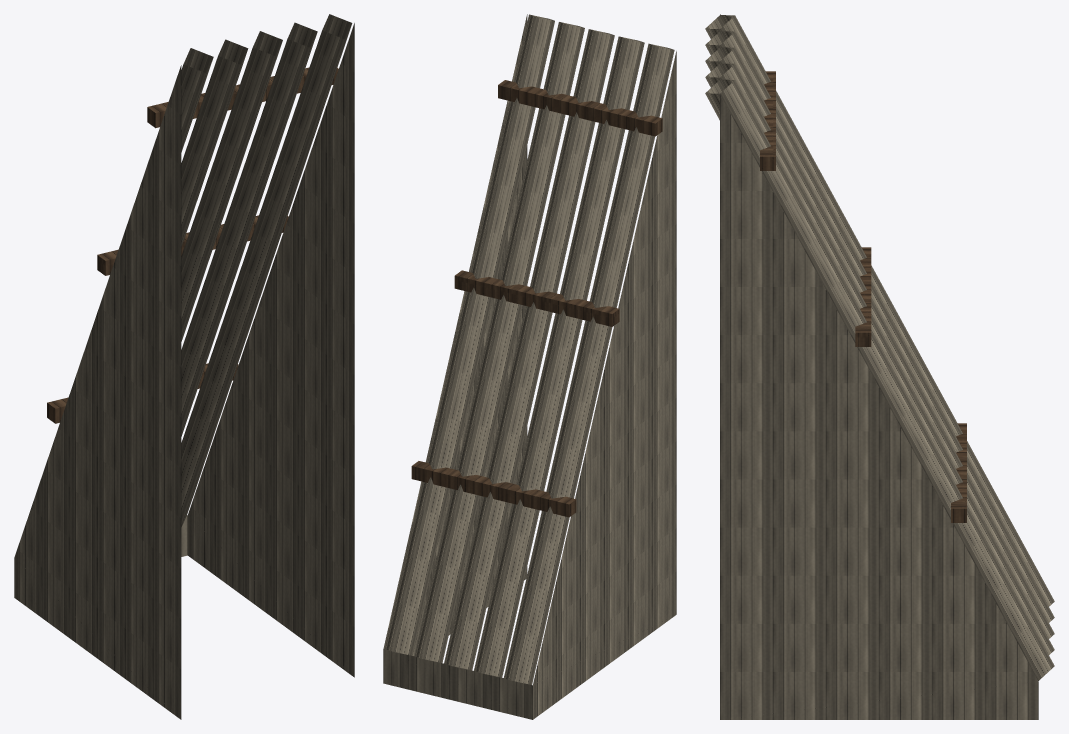
Rendered from Rampart_Buttress_Wood_1_LOD1.gltf.
3 views of the same model, side by side, from view 1: azimuth 30°, elevation 25°; view 2: azimuth 150°, elevation 25°; view 3: azimuth 270°, elevation 25° (orthographic). The views are drawn at different scales.
Visible parts, largest first — view 1: Rampart_Buttress_Wood_1_LOD1; view 2: Rampart_Buttress_Wood_1_LOD1; view 3: Rampart_Buttress_Wood_1_LOD1.
Boxes of the visible parts, x1=… form: Rampart_Buttress_Wood_1_LOD1: x1=14, y1=14, x2=354, y2=719; Rampart_Buttress_Wood_1_LOD1: x1=383, y1=14, x2=676, y2=719; Rampart_Buttress_Wood_1_LOD1: x1=705, y1=14, x2=1054, y2=719.
Bounding box in the file's own units: 3.8 × 13.14 × 6.59.
Materials: 2 (2 with a texture image).
